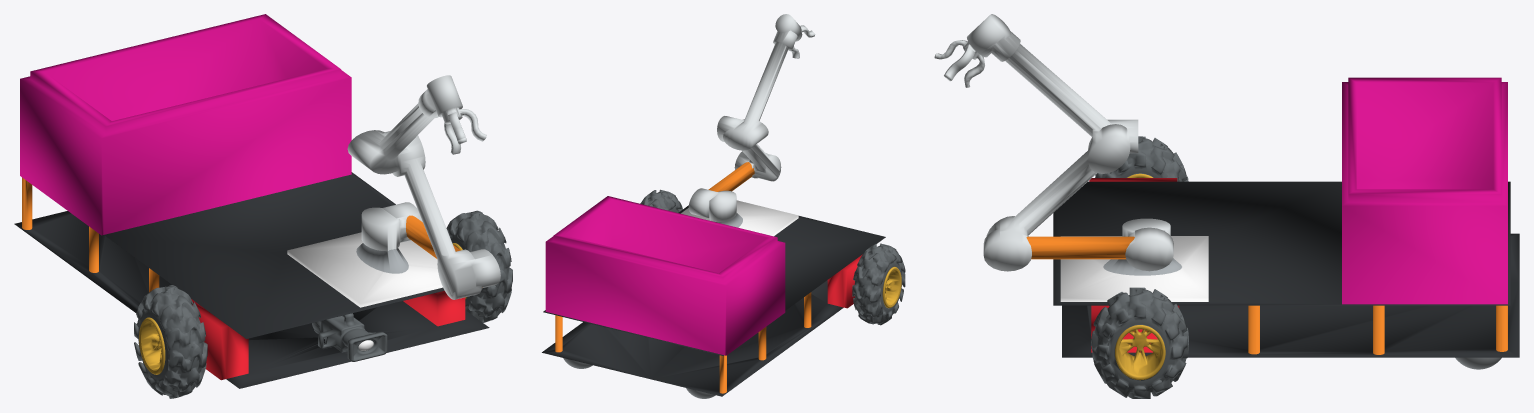
Rendered from tinker-rotated.obj.
The picture shows the model from 3 angles, left to right: view 1: azimuth 30°, elevation 25°; view 2: azimuth 150°, elevation 25°; view 3: azimuth 270°, elevation 25°; orthographic projection. The views are drawn at different scales.
Visible parts, largest first — view 1: obj_0; view 2: obj_0; view 3: obj_0.
Boxes of the visible parts, x1,y1,x2,y2 form: obj_0: (14,14,512,398); obj_0: (542,14,905,398); obj_0: (934,14,1519,398).
Bounding box in the file's own units: 69 × 61.8 × 99.76.
